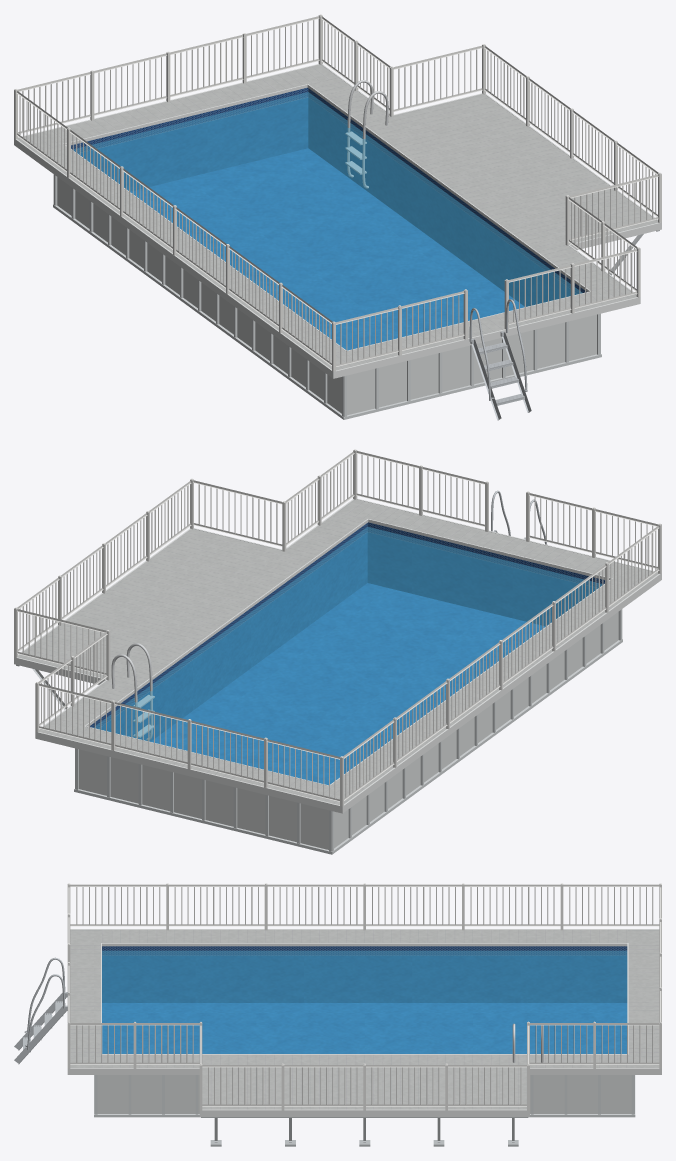
Rendered from kayak-pool-16x32-white-t-ag-fence.6f748702d5.glb.
3 renders of one model, top to bottom at view 1: azimuth 30°, elevation 25°; view 2: azimuth 150°, elevation 25°; view 3: azimuth 270°, elevation 25°, orthographic. The views are drawn at different scales.
Parts seen in each view (by area): view 1: water, deck, liner_floor, fence, liner_wall, wall, fascia, upright, ladder, steel; view 2: water, deck, liner_floor, fence, liner_wall, wall, fascia, upright, steel; view 3: water, deck, liner_wall, liner_floor, fence, fascia, wall, upright, ladder, stud.
Boxes of the visible parts, x1,y1,x2,y2 form: water: [74, 92, 581, 350]; deck: [17, 64, 657, 370]; liner_floor: [130, 148, 524, 350]; fence: [14, 14, 661, 371]; liner_wall: [71, 87, 586, 306]; wall: [57, 177, 596, 415]; fascia: [14, 64, 661, 378]; upright: [53, 174, 601, 419]; ladder: [469, 299, 531, 420]; steel: [345, 80, 388, 188]; water: [93, 527, 602, 785]; deck: [18, 499, 658, 805]; liner_floor: [151, 583, 545, 785]; fence: [14, 449, 661, 806]; liner_wall: [90, 522, 604, 741]; wall: [79, 612, 618, 849]; fascia: [14, 498, 661, 813]; upright: [74, 609, 622, 854]; steel: [111, 643, 154, 740]; water: [102, 950, 627, 1053]; deck: [70, 929, 659, 1109]; liner_wall: [102, 946, 627, 1002]; liner_floor: [102, 1003, 627, 1053]; fence: [67, 883, 661, 1110]; fascia: [67, 929, 661, 1116]; wall: [97, 1075, 631, 1113]; upright: [94, 1075, 635, 1117]; ladder: [14, 957, 67, 1064]; stud: [201, 1117, 528, 1146].
Bounding box in the file's own units: 7.93 × 2.15 × 11.96.
11 materials, 3 textured.
